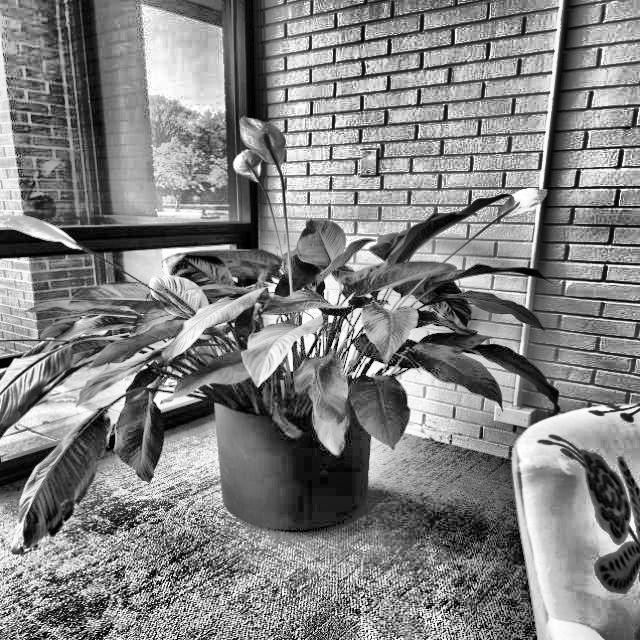plants: (28, 153, 505, 554)
